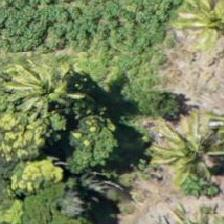coconut_tree: (0, 39, 88, 129), (151, 106, 223, 196), (165, 0, 223, 67)
